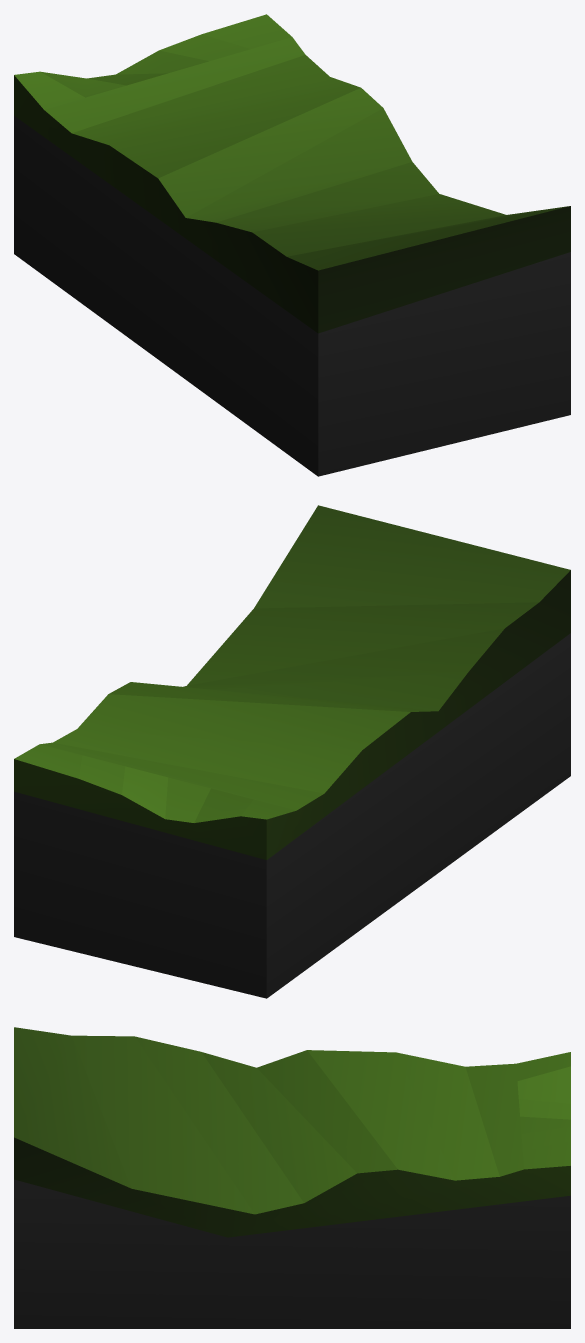
File: Ruin1.fbx
3 renders of one model, top to bottom at view 1: azimuth 30°, elevation 25°; view 2: azimuth 150°, elevation 25°; view 3: azimuth 270°, elevation 25°, orthographic. The views are drawn at different scales.
Parts seen in each view (by area): view 1: Ruin; view 2: Ruin; view 3: Ruin.
Part boxes in pixels (x1=…): Ruin: x1=14, y1=14, x2=570, y2=476; Ruin: x1=14, y1=505, x2=570, y2=998; Ruin: x1=14, y1=1027, x2=570, y2=1328.
Bounding box in the file's own units: 0.5658 × 0.4472 × 1.18.
